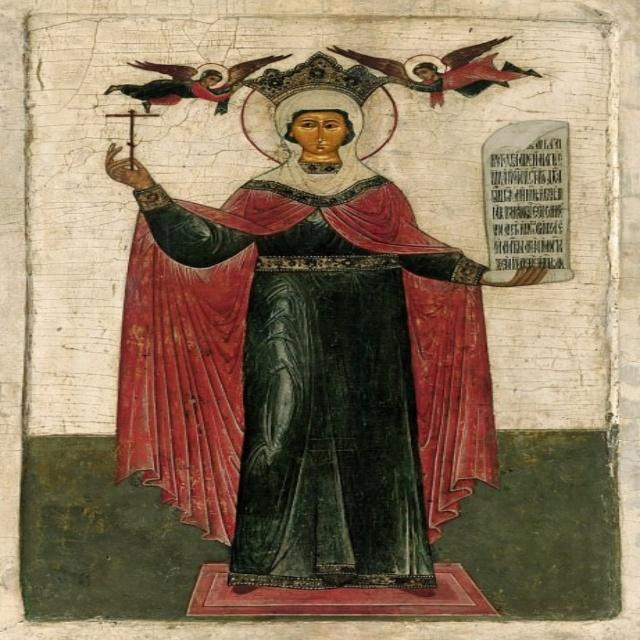angel: (333, 38, 550, 98), (102, 53, 284, 117)
aura: (404, 54, 447, 81), (196, 61, 232, 89)
cross: (101, 103, 164, 174)
crown: (246, 51, 391, 104)
mary: (218, 59, 457, 602)
queen: (97, 54, 516, 612)
saint: (247, 63, 402, 170)
scroll: (483, 120, 583, 284)
wing: (325, 44, 404, 82), (443, 36, 514, 67), (121, 58, 199, 81), (226, 54, 294, 76)
